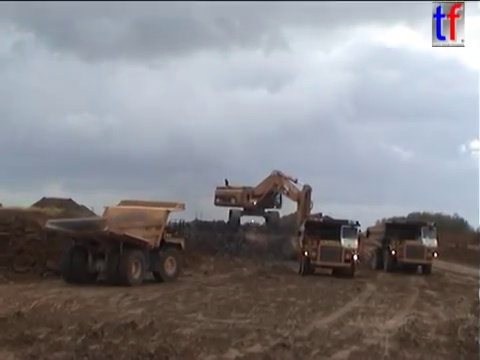excavator: (211, 168, 316, 258), (256, 208, 324, 238)
truck: (43, 198, 187, 287), (296, 214, 363, 279), (365, 218, 439, 275)
